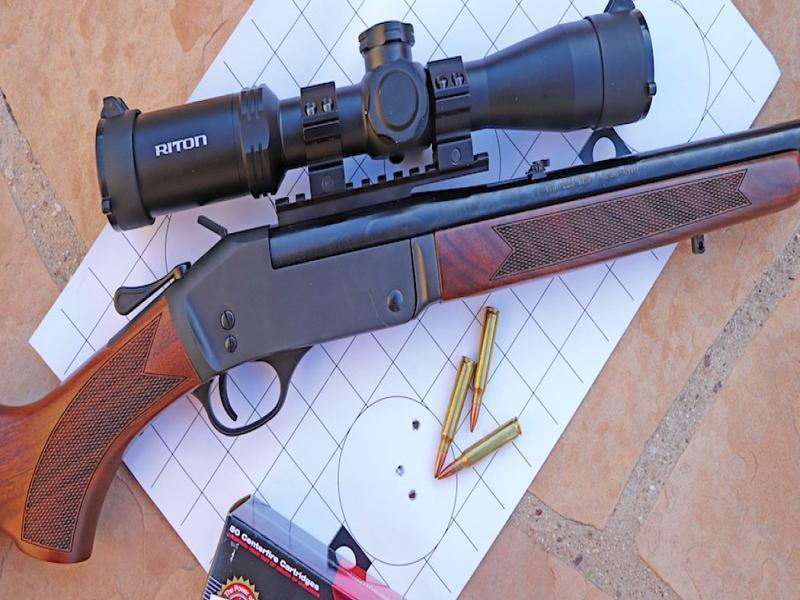GUN: (1, 5, 793, 570)
